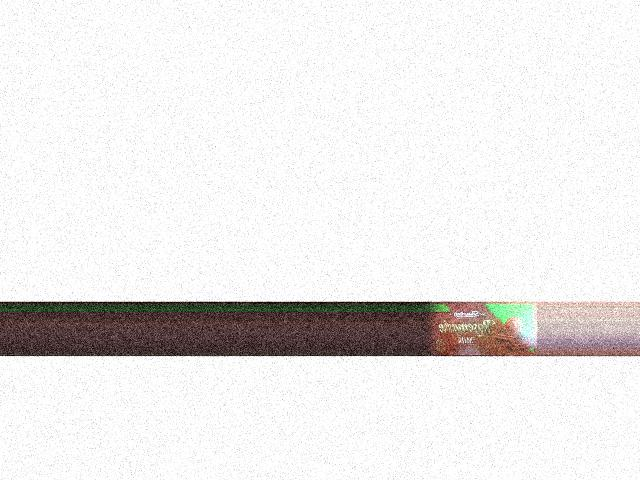chocolate: (425, 303, 535, 355)
